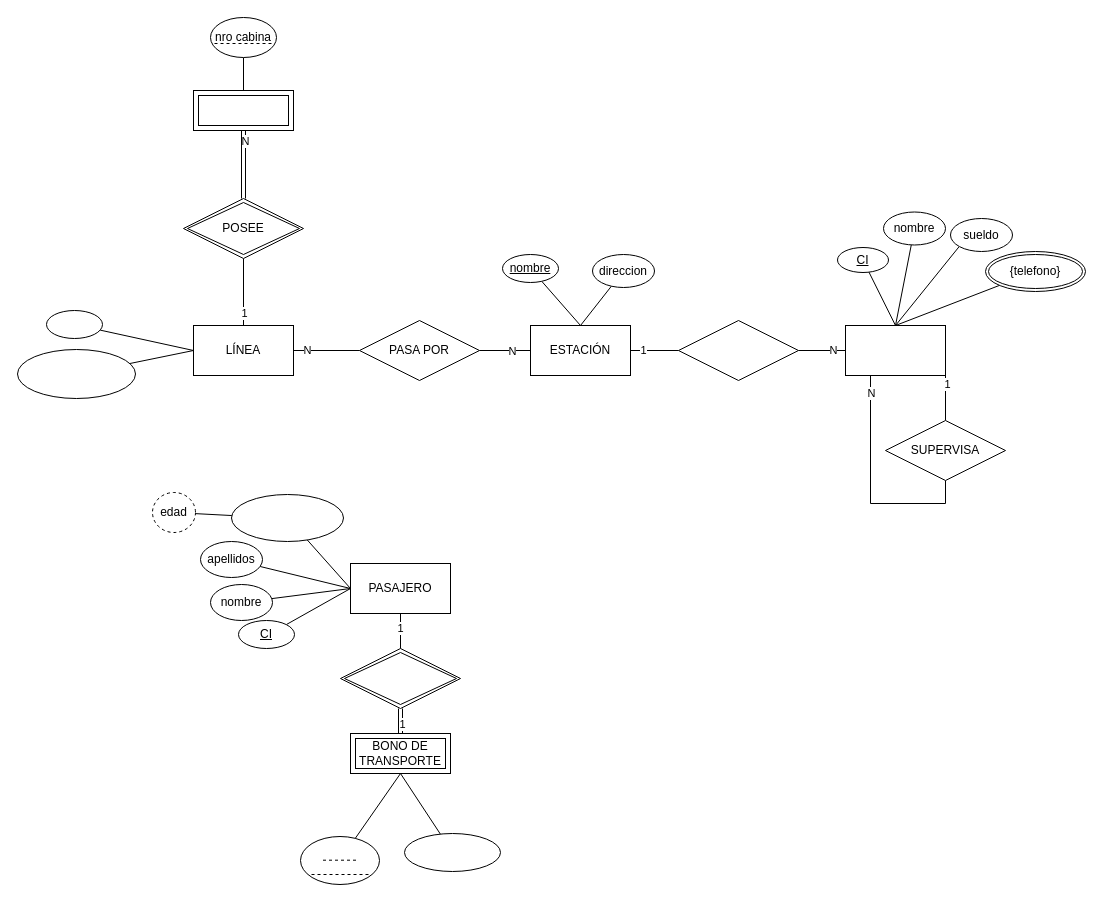
Image size: 1103x902. Some labels were removed from this diagram. Each missing label, with the box of its shape:
ADQUIERE: (340, 648, 460, 708)
ASIGNA: (678, 320, 798, 380)
CABINA: (192, 90, 294, 130)
codigo beneficio: (300, 836, 380, 884)
color: (46, 310, 102, 338)
EMPLEADO: (844, 324, 946, 376)
fecha_inauguracion: (16, 348, 136, 398)
fecha_nacimiento: (230, 494, 344, 542)
tipo_descuento: (404, 832, 500, 872)
